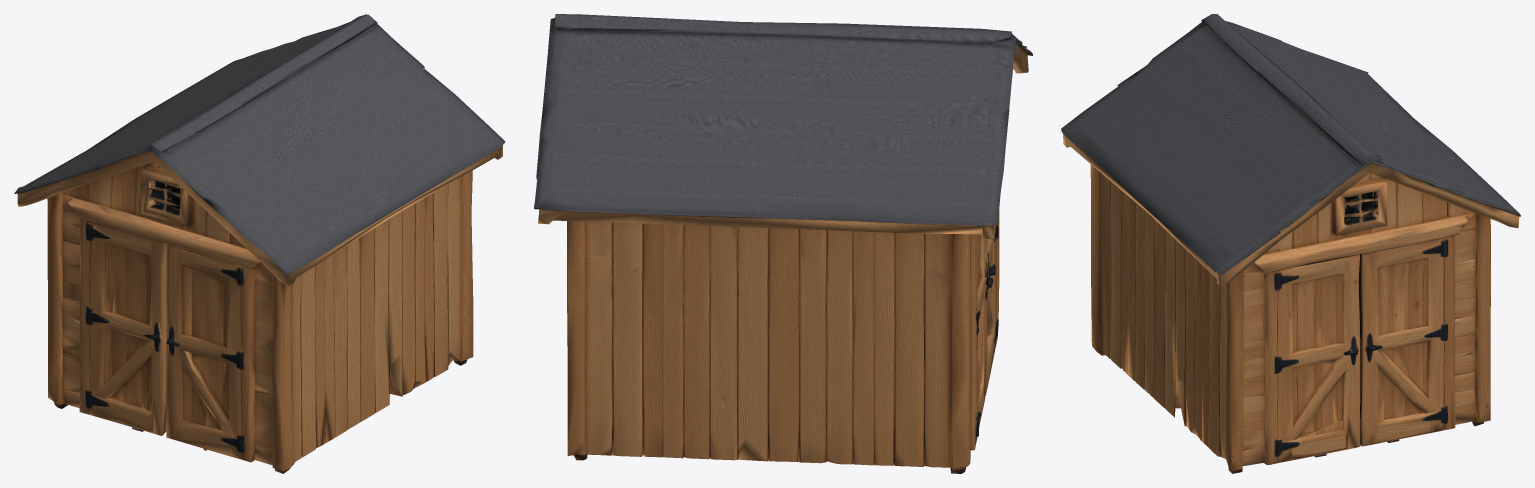
File: shed.glb
3 renders of one model, left to right at view 1: azimuth 30°, elevation 25°; view 2: azimuth 150°, elevation 25°; view 3: azimuth 270°, elevation 25°, orthographic. The views are drawn at different scales.
Parts seen in each view (by area): view 1: tripo_node_6f040d0f-ee2c-48ef-a33b-5ba9b0fc2b33; view 2: tripo_node_6f040d0f-ee2c-48ef-a33b-5ba9b0fc2b33; view 3: tripo_node_6f040d0f-ee2c-48ef-a33b-5ba9b0fc2b33.
Boxes of the visible parts, bbox=[...] form: tripo_node_6f040d0f-ee2c-48ef-a33b-5ba9b0fc2b33: bbox=[14, 14, 505, 473]; tripo_node_6f040d0f-ee2c-48ef-a33b-5ba9b0fc2b33: bbox=[534, 14, 1032, 473]; tripo_node_6f040d0f-ee2c-48ef-a33b-5ba9b0fc2b33: bbox=[1061, 14, 1520, 473].
Size of the model in its own units: 2.88 by 2 by 2.73.
1 material, 1 textured.
